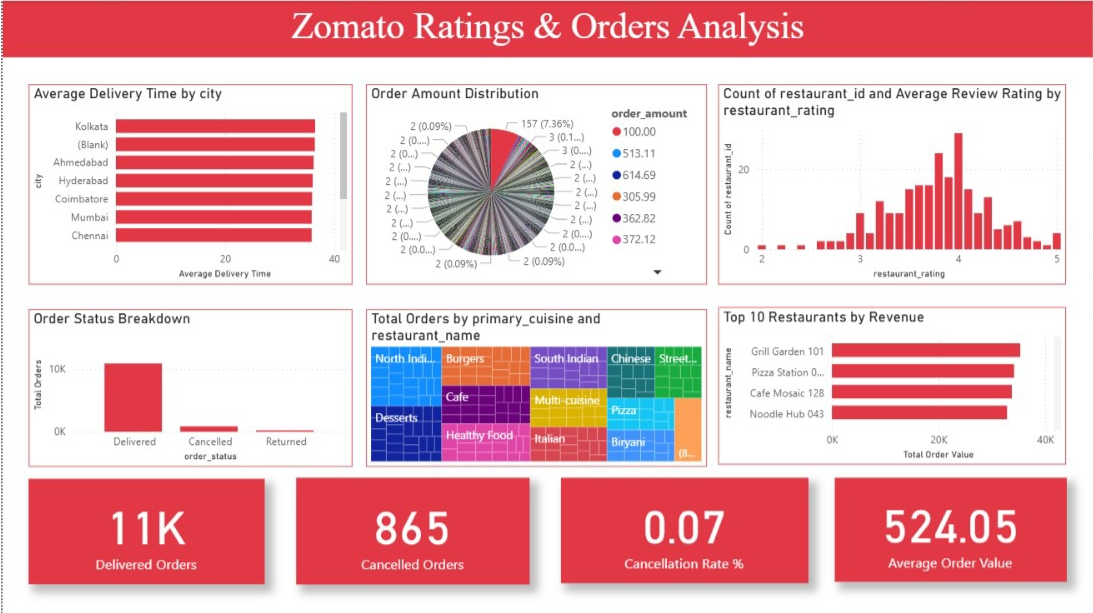

Layout of this report page (visuals, bound fields, positions):
{"tool":"powerbi","page":{"name":"Zomato Ratings & Orders Analysis","canvas":[1280,720],"ordinal":3},"visuals":[{"type":"textbox","box":[0,0,1279.7,66.4],"z":0},{"type":"card","fields":{"Values":["zomato_analytics orders.Cancelled Orders"]},"box":[345,560,273.3,125],"z":1000},{"type":"card","fields":{"Values":["zomato_analytics orders.Delivered Orders"]},"box":[30,561.7,276.7,123.3],"z":2000},{"type":"card","fields":{"Values":["zomato_analytics orders.Cancellation Rate %"]},"box":[655,560,290,123.3],"z":3000},{"type":"card","fields":{"Values":["zomato_analytics orders.Average Order Value"]},"box":[976.7,560,271.7,121.7],"z":4000},{"type":"columnChart","title":"Order Status Breakdown","fields":{"Category":["zomato_analytics orders.order_status"],"Y":["zomato_analytics orders.Total Orders"]},"box":[30,361.7,380,185],"z":5000},{"type":"clusteredColumnChart","fields":{"Category":["zomato_analytics restaurants.restaurant_rating"],"Y":["Count(zomato_analytics restaurants.restaurant_id)"]},"box":[840,98.3,408.3,235],"z":6000},{"type":"clusteredBarChart","fields":{"Category":["zomato_analytics restaurants.city"],"Y":["zomato_analytics orders.Average Delivery Time"]},"box":[30,98.3,380,235],"z":7000},{"type":"pieChart","title":"Order Amount Distribution","fields":{"Category":["zomato_analytics orders.order_amount"],"Y":["CountNonNull(zomato_analytics orders.order_id)"]},"box":[426.7,98.3,400,235],"z":8000},{"type":"clusteredBarChart","title":"Top 10 Restaurants by Revenue","fields":{"Category":["zomato_analytics restaurants.restaurant_name"],"Y":["zomato_analytics orders.Total Order Value"]},"box":[840,360,408.3,185],"z":9000},{"type":"treemap","fields":{"Group":["zomato_analytics restaurants.primary_cuisine"],"Details":["zomato_analytics restaurants.restaurant_name"],"Values":["zomato_analytics orders.Total Orders"]},"box":[427,362,400,185],"z":10000}]}

Visuals, with their boxes in screenshot pixels (x1, y1, x2, y2), scaled from the page's 1280x720 canvas onto the 1093x613 screenshot:
textbox: box=[0, 0, 1092, 57]
card - zomato_analytics orders.Cancelled Orders: box=[295, 477, 528, 583]
card - zomato_analytics orders.Delivered Orders: box=[26, 478, 262, 583]
card - zomato_analytics orders.Cancellation Rate %: box=[559, 477, 807, 582]
card - zomato_analytics orders.Average Order Value: box=[834, 477, 1066, 580]
"Order Status Breakdown" columnChart: box=[26, 308, 350, 465]
clusteredColumnChart - zomato_analytics restaurants.restaurant_rating x Count(zomato_analytics restaurants.restaurant_id): box=[717, 84, 1066, 284]
clusteredBarChart - zomato_analytics restaurants.city x zomato_analytics orders.Average Delivery Time: box=[26, 84, 350, 284]
"Order Amount Distribution" pieChart: box=[364, 84, 706, 284]
"Top 10 Restaurants by Revenue" clusteredBarChart: box=[717, 306, 1066, 464]
treemap - zomato_analytics restaurants.primary_cuisine x zomato_analytics restaurants.restaurant_name: box=[365, 308, 706, 466]
